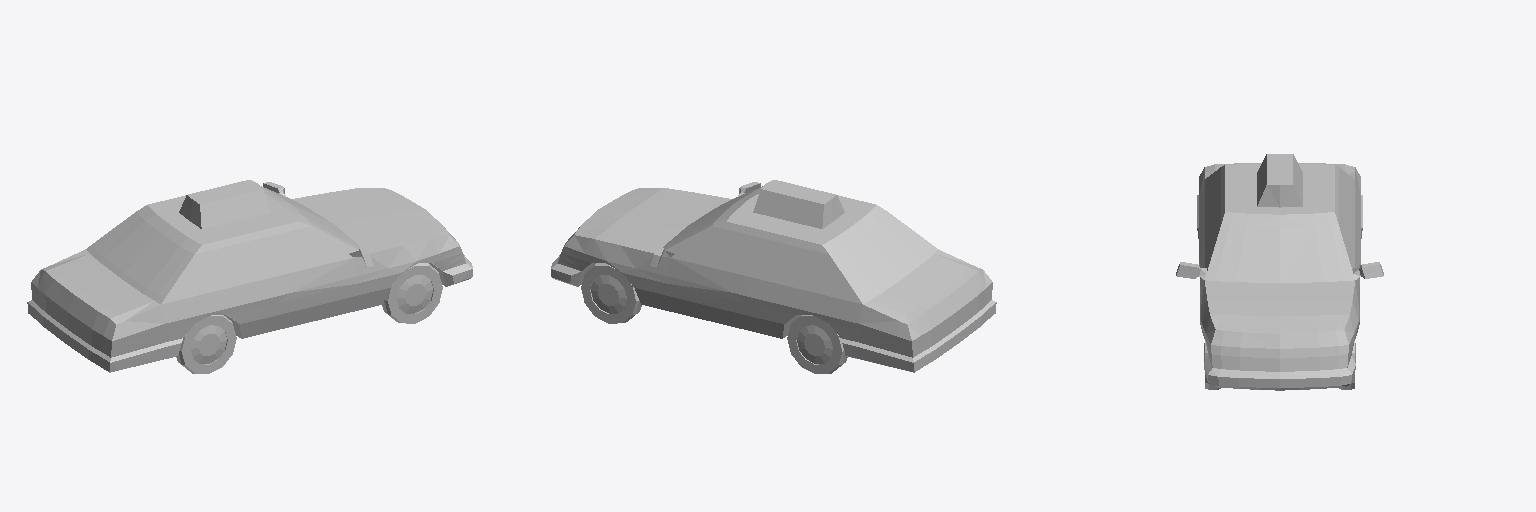
File: taxi2.obj
3 views of the same model, side by side, from view 1: azimuth 30°, elevation 25°; view 2: azimuth 150°, elevation 25°; view 3: azimuth 270°, elevation 25° (orthographic).
Parts seen in each view (by area): view 1: 1399_Taxi.002; view 2: 1399_Taxi.002; view 3: 1399_Taxi.002.
Boxes of the visible parts, x1=… form: 1399_Taxi.002: x1=27, y1=180, x2=472, y2=373; 1399_Taxi.002: x1=551, y1=180, x2=996, y2=373; 1399_Taxi.002: x1=1176, y1=154, x2=1383, y2=390.
Bounding box in the file's own units: 0.5549 × 0.199 × 0.2612.